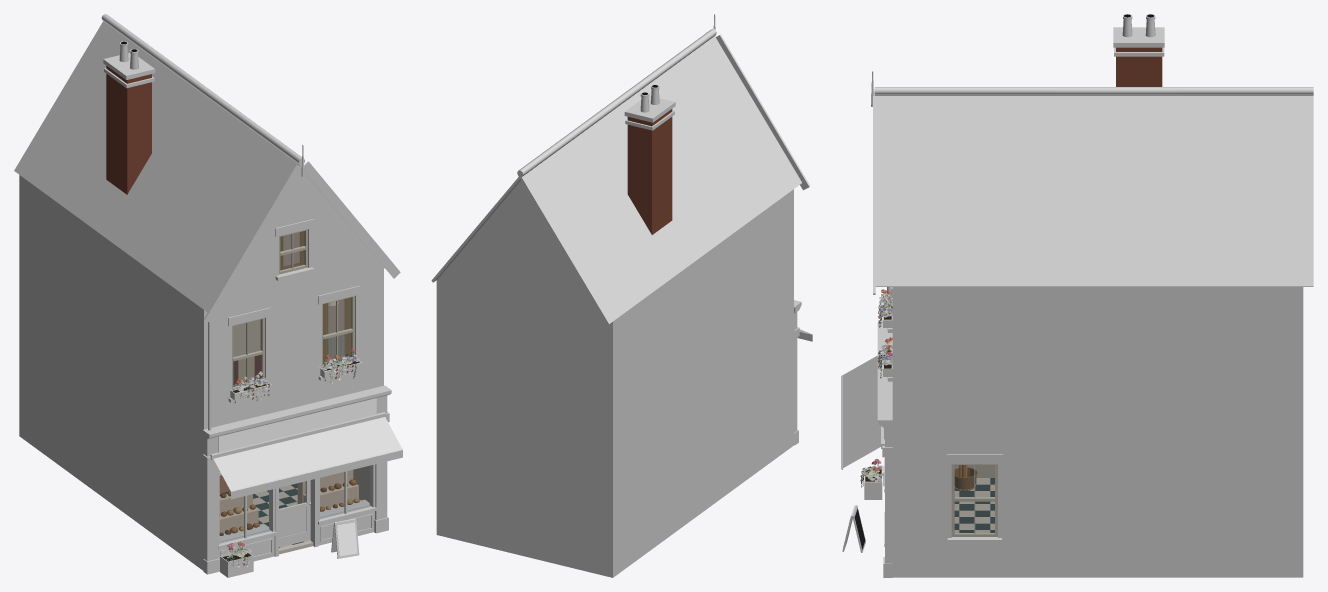
Rendered from Opposite_Opposite1_5.glb.
The picture shows the model from 3 angles, left to right: view 1: azimuth 30°, elevation 25°; view 2: azimuth 150°, elevation 25°; view 3: azimuth 270°, elevation 25°; orthographic projection. The views are drawn at different scales.
Visible parts, largest first — view 1: Opposite_Opposite1_5; view 2: Opposite_Opposite1_5; view 3: Opposite_Opposite1_5.
Part boxes in pixels (<box>): Opposite_Opposite1_5: <box>14,14,402,577</box>; Opposite_Opposite1_5: <box>431,14,812,577</box>; Opposite_Opposite1_5: <box>841,14,1313,577</box>.
Size of what is drawn, in the model's own units: 4.9 by 10.39 by 9.2.
